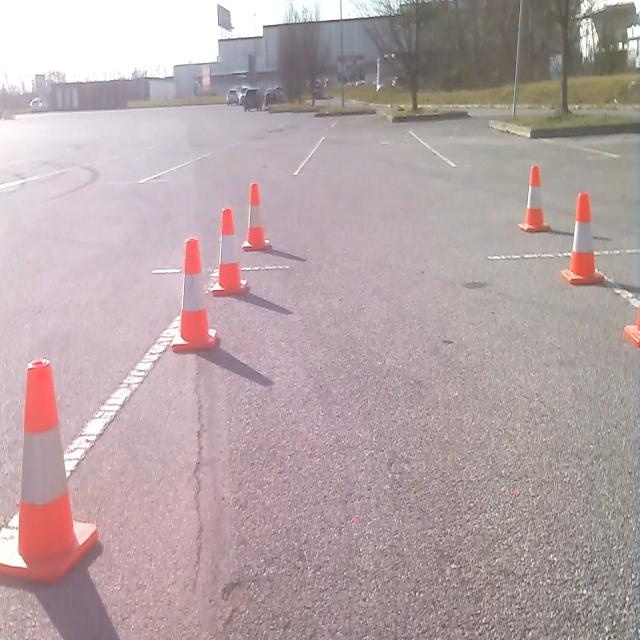orange_cone: (1, 354, 99, 584), (170, 235, 219, 353), (560, 189, 605, 286), (210, 205, 248, 296), (518, 162, 551, 233), (241, 180, 270, 251), (622, 303, 640, 347)
